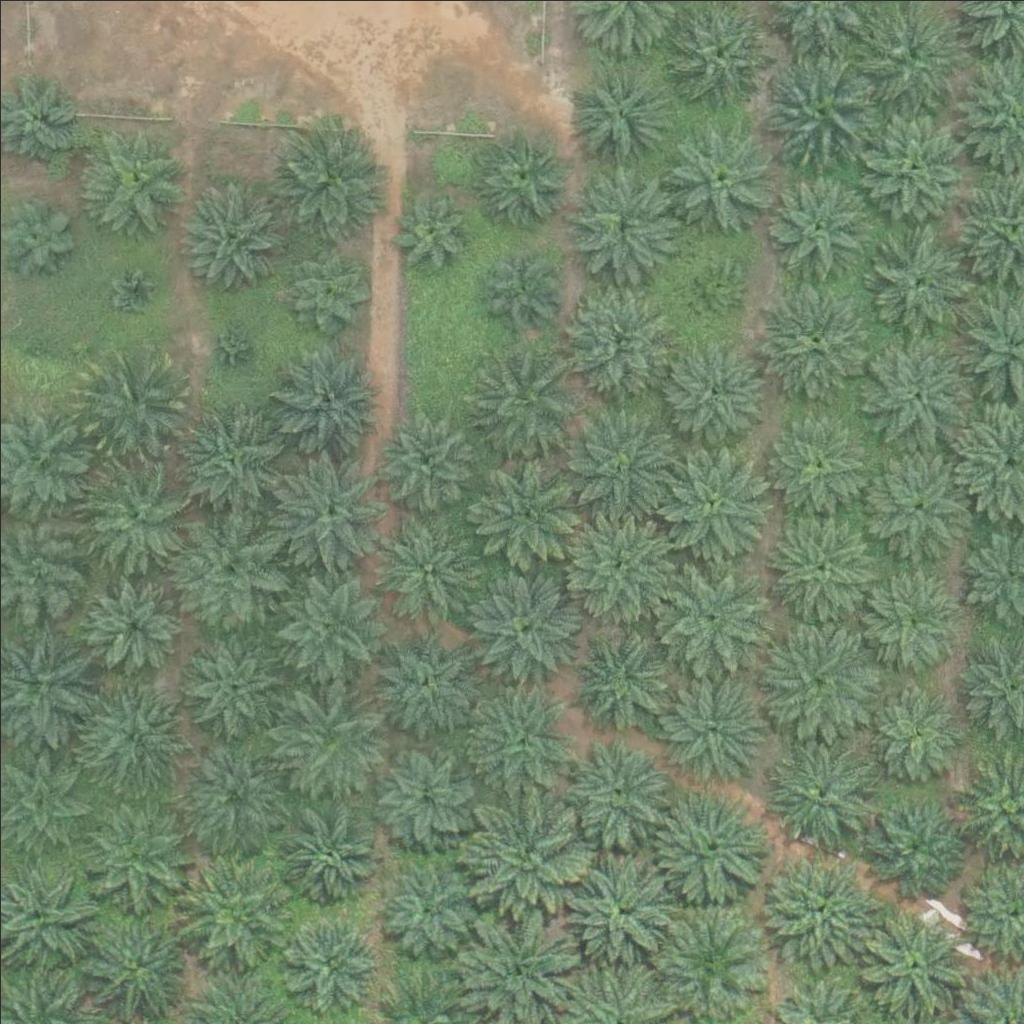Kelapa_Sawit: (77, 795, 190, 909), (74, 675, 187, 789), (560, 286, 673, 400), (654, 445, 767, 559), (761, 852, 874, 965), (651, 793, 764, 906), (469, 797, 582, 910), (78, 909, 191, 1022), (270, 566, 383, 679), (270, 453, 383, 566), (267, 338, 380, 451), (372, 517, 485, 630), (556, 506, 669, 619), (562, 411, 675, 524), (655, 671, 768, 784), (651, 555, 764, 668), (764, 736, 877, 849), (759, 622, 872, 735), (662, 120, 775, 233), (566, 163, 679, 276), (562, 59, 675, 172), (267, 125, 380, 238), (175, 846, 287, 960), (759, 507, 871, 621), (854, 107, 966, 221), (76, 124, 188, 238), (77, 349, 189, 462), (653, 907, 765, 1020), (561, 859, 673, 972), (179, 738, 291, 851), (79, 459, 191, 572), (179, 513, 291, 626), (175, 406, 287, 519), (276, 684, 388, 797), (464, 680, 576, 793), (467, 569, 579, 682), (462, 457, 574, 570), (463, 350, 575, 463), (557, 735, 669, 848), (757, 282, 869, 395), (858, 445, 970, 558), (854, 335, 966, 448), (860, 226, 972, 339), (762, 50, 874, 163), (175, 175, 287, 288), (866, 797, 966, 898), (376, 859, 476, 960), (374, 740, 474, 841), (274, 798, 374, 899), (82, 574, 182, 675), (180, 633, 280, 734), (374, 636, 474, 737), (373, 409, 473, 510), (564, 630, 664, 731), (764, 173, 864, 274), (279, 912, 379, 1012), (659, 342, 759, 442), (766, 411, 866, 511), (865, 679, 965, 779), (860, 565, 960, 665), (476, 131, 564, 220), (281, 242, 368, 330), (480, 244, 555, 320), (394, 194, 469, 269), (676, 254, 738, 317), (203, 321, 253, 372), (109, 265, 159, 316), (12, 329, 62, 379)
